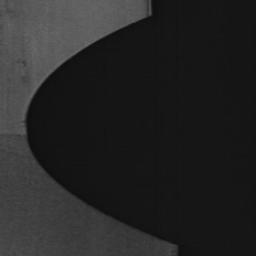Crescent gap: (26, 15, 174, 245)
